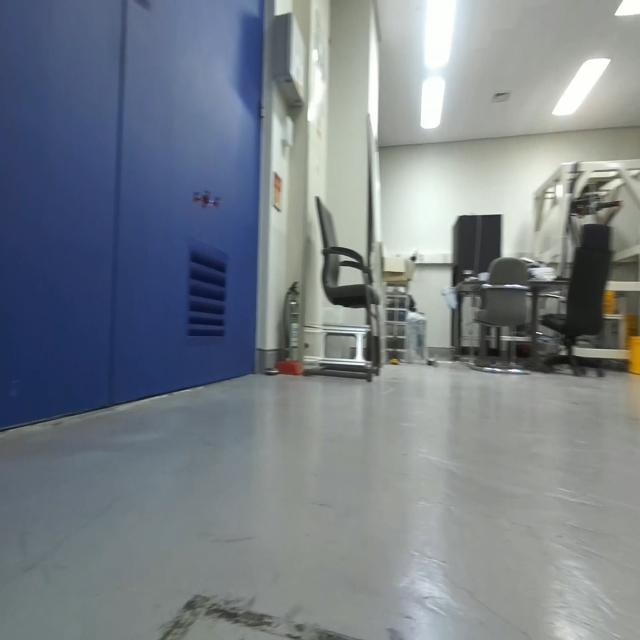crazyflie: (188, 184, 223, 217)
